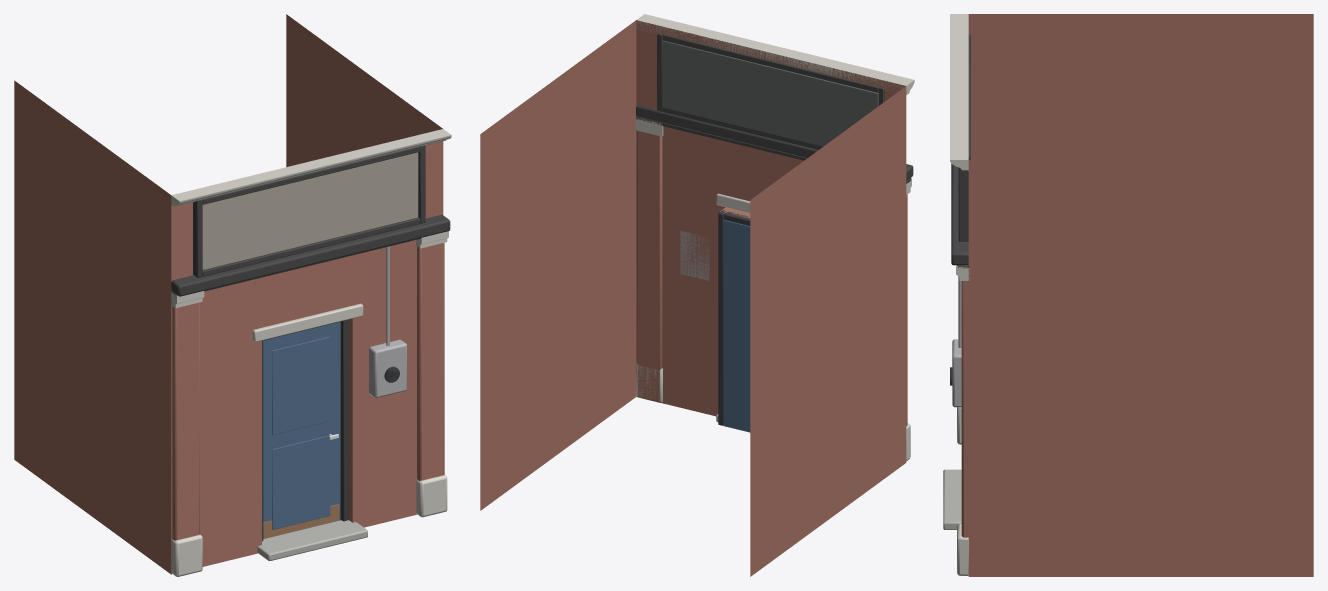
The model's file is wall_3a.glb.
The picture shows the model from 3 angles, left to right: view 1: azimuth 30°, elevation 25°; view 2: azimuth 150°, elevation 25°; view 3: azimuth 270°, elevation 25°; orthographic projection. The views are drawn at different scales.
Parts seen in each view (by area): view 1: wall_3a; view 2: wall_3a; view 3: wall_3a.
Boxes of the visible parts, <box> form: wall_3a: <box>14,14,451,576</box>; wall_3a: <box>480,14,914,576</box>; wall_3a: <box>943,14,1313,576</box>.
Bounding box in the file's own units: 3 × 4 × 3.22.
